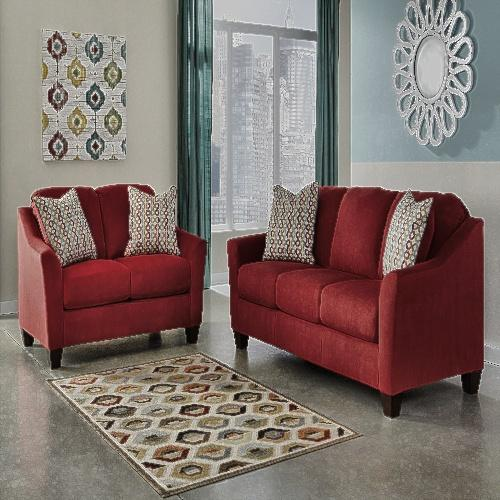sofa: (243, 179, 482, 401), (24, 183, 198, 357)
